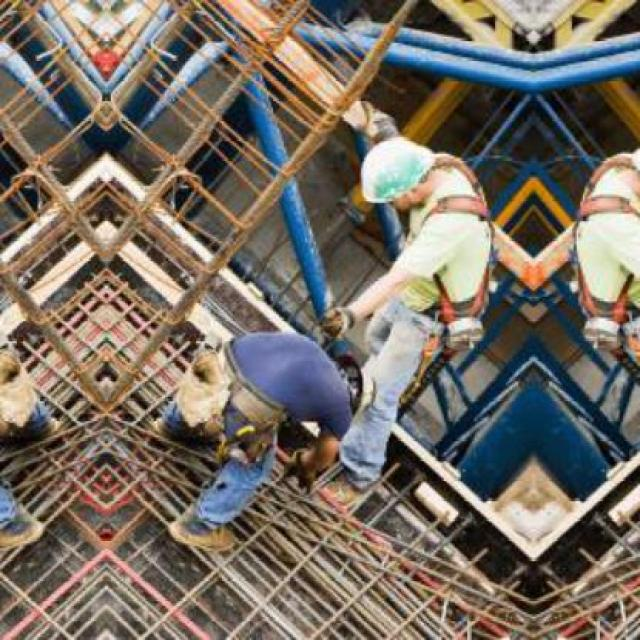helmet: (344, 134, 444, 223), (327, 347, 378, 419)
